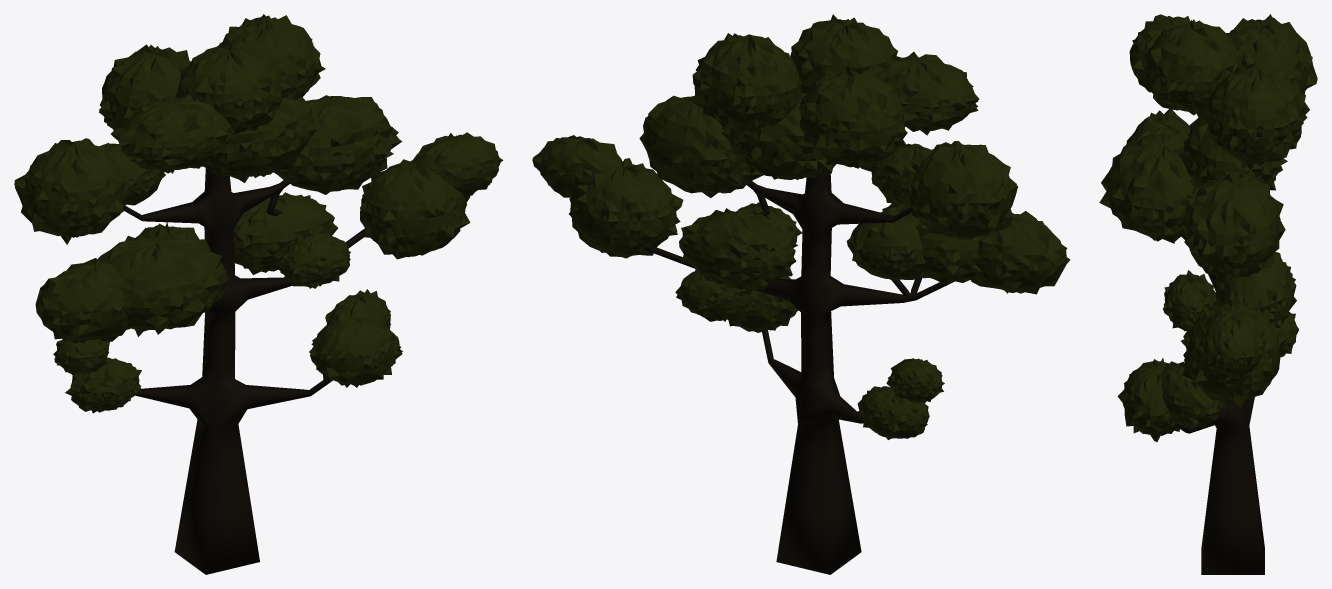
The model's file is drzewo7.obj.
3 renders of one model, left to right at view 1: azimuth 30°, elevation 25°; view 2: azimuth 150°, elevation 25°; view 3: azimuth 270°, elevation 25°, orthographic.
Parts seen in each view (by area): view 1: Cube, liscie.005, liscie.011, liscie.001, liscie.009, liscie.008, liscie.010, liscie.006, liscie.015, liscie.016, liscie.003, liscie.014 (+7 smaller); view 2: Cube, liscie.011, liscie.014, liscie.007, liscie.001, liscie.009, liscie.016, liscie.006, liscie.010, liscie.008, liscie.015, liscie.019 (+8 smaller); view 3: Cube, liscie.009, liscie.007, liscie.005, liscie.010, liscie.001, liscie.014, liscie.002, liscie.016, liscie.015, liscie.003, liscie.013 (+4 smaller).
Part boxes in pixels (left/top/right/bottom): Cube: left=123, top=46, right=365, bottom=574; liscie.005: left=97, top=227, right=228, bottom=336; liscie.011: left=14, top=138, right=128, bottom=244; liscie.001: left=360, top=153, right=470, bottom=259; liscie.009: left=275, top=95, right=401, bottom=194; liscie.008: left=111, top=94, right=234, bottom=173; liscie.010: left=175, top=40, right=291, bottom=134; liscie.006: left=35, top=258, right=130, bottom=343; liscie.015: left=201, top=94, right=317, bottom=182; liscie.016: left=234, top=192, right=337, bottom=274; liscie.003: left=309, top=315, right=402, bottom=387; liscie.014: left=99, top=44, right=190, bottom=130; Cube: left=643, top=65, right=946, bottom=574; liscie.011: left=901, top=141, right=1017, bottom=239; liscie.014: left=799, top=66, right=913, bottom=171; liscie.007: left=692, top=33, right=802, bottom=132; liscie.001: left=569, top=158, right=683, bottom=258; liscie.009: left=639, top=95, right=763, bottom=197; liscie.016: left=679, top=208, right=798, bottom=292; liscie.006: left=971, top=211, right=1070, bottom=294; liscie.010: left=790, top=14, right=897, bottom=93; liscie.008: left=884, top=51, right=979, bottom=135; liscie.015: left=721, top=92, right=836, bottom=179; liscie.019: left=847, top=207, right=925, bottom=280; Cube: left=1180, top=131, right=1264, bottom=574; liscie.009: left=1181, top=171, right=1285, bottom=282; liscie.007: left=1203, top=61, right=1309, bottom=165; liscie.005: left=1099, top=130, right=1192, bottom=243; liscie.010: left=1142, top=19, right=1241, bottom=115; liscie.001: left=1181, top=301, right=1286, bottom=407; liscie.014: left=1228, top=14, right=1317, bottom=94; liscie.002: left=1199, top=303, right=1266, bottom=379; liscie.016: left=1215, top=251, right=1296, bottom=328; liscie.015: left=1178, top=110, right=1287, bottom=190; liscie.003: left=1117, top=358, right=1180, bottom=441; liscie.013: left=1160, top=361, right=1222, bottom=427.
Size of the model in its own units: 3.87 by 3.94 by 1.46.
